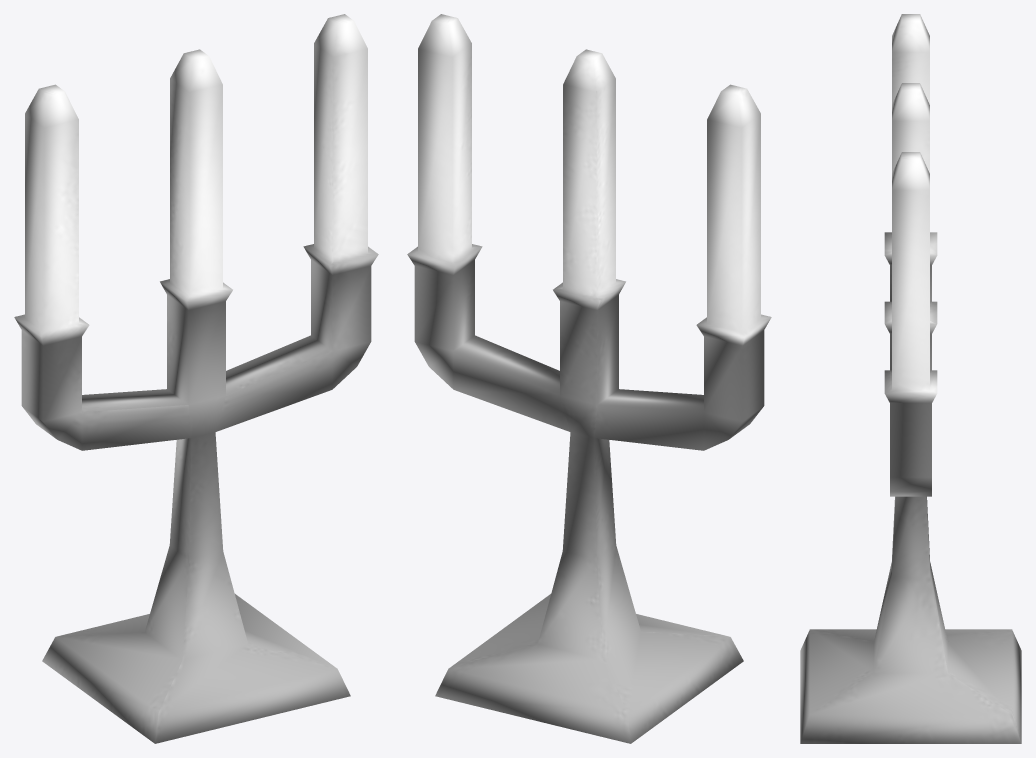
File: Candilabre_vi.fbx
The picture shows the model from 3 angles, left to right: view 1: azimuth 30°, elevation 25°; view 2: azimuth 150°, elevation 25°; view 3: azimuth 270°, elevation 25°; orthographic projection. The views are drawn at different scales.
Visible parts, largest first — view 1: Candilabre; view 2: Candilabre; view 3: Candilabre.
Boxes of the visible parts, box(x1,y1,x2,y2) form: Candilabre: box(14, 14, 378, 743); Candilabre: box(407, 14, 771, 743); Candilabre: box(800, 14, 1021, 743).
Size of the model in its own units: 0.00283 by 0.005 by 0.00164.
1 material, 1 textured.
